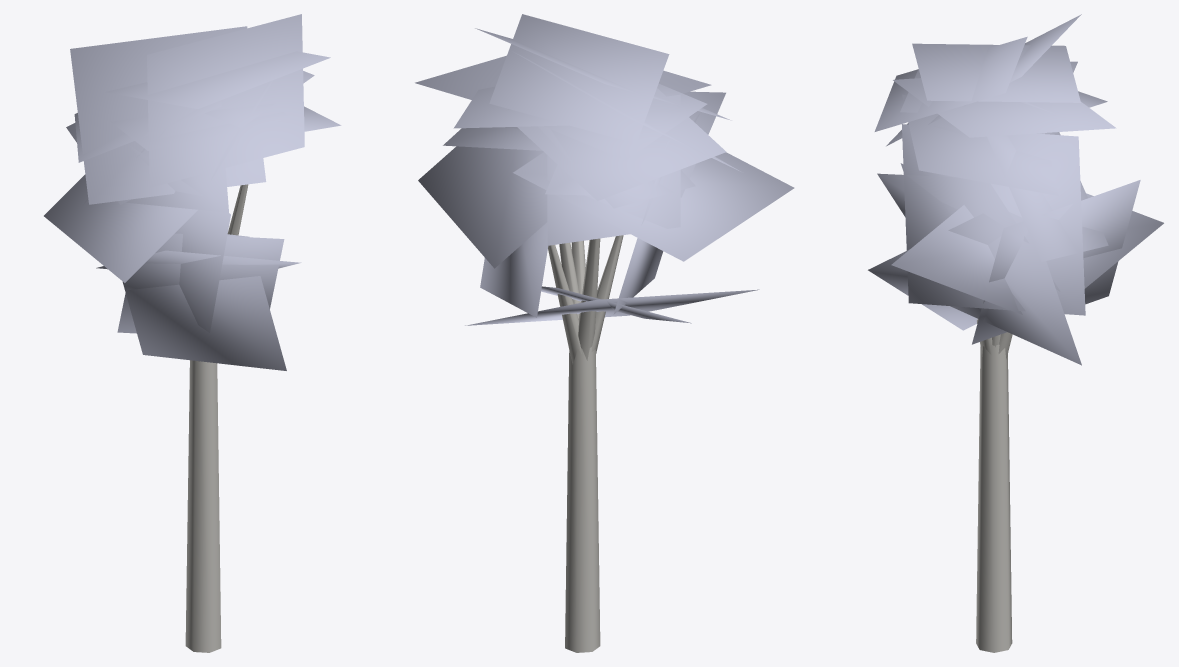
Rendered from birch2.glb.
3 renders of one model, left to right at view 1: azimuth 30°, elevation 25°; view 2: azimuth 150°, elevation 25°; view 3: azimuth 270°, elevation 25°, orthographic.
Visible parts, largest first — view 1: leaves, bark; view 2: leaves, bark; view 3: leaves, bark.
Part boxes in pixels (<box>): leaves: <box>44,14,341,370</box>; bark: <box>185,184,248,652</box>; leaves: <box>415,14,794,325</box>; bark: <box>548,235,623,652</box>; leaves: <box>868,14,1163,365</box>; bark: <box>976,319,1012,652</box>.
Size of the model in its own units: 6.34 by 12.39 by 6.36.
